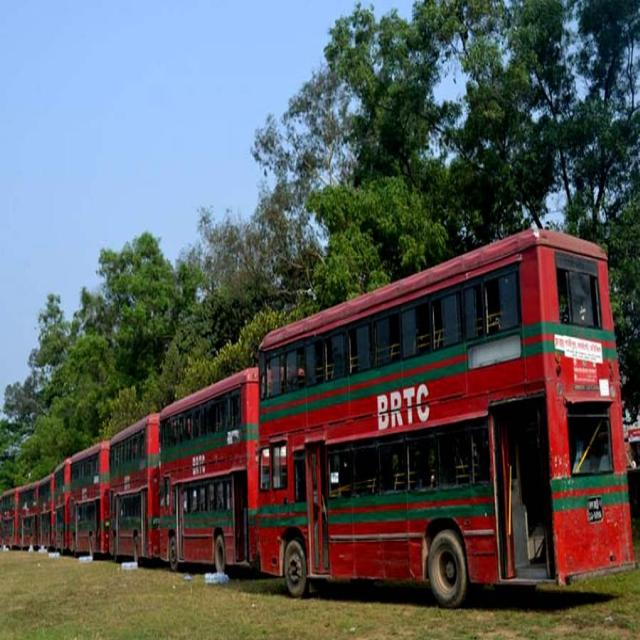Double decker: (259, 220, 638, 604), (157, 371, 254, 579), (106, 413, 162, 574), (67, 440, 108, 560), (49, 463, 72, 554)
